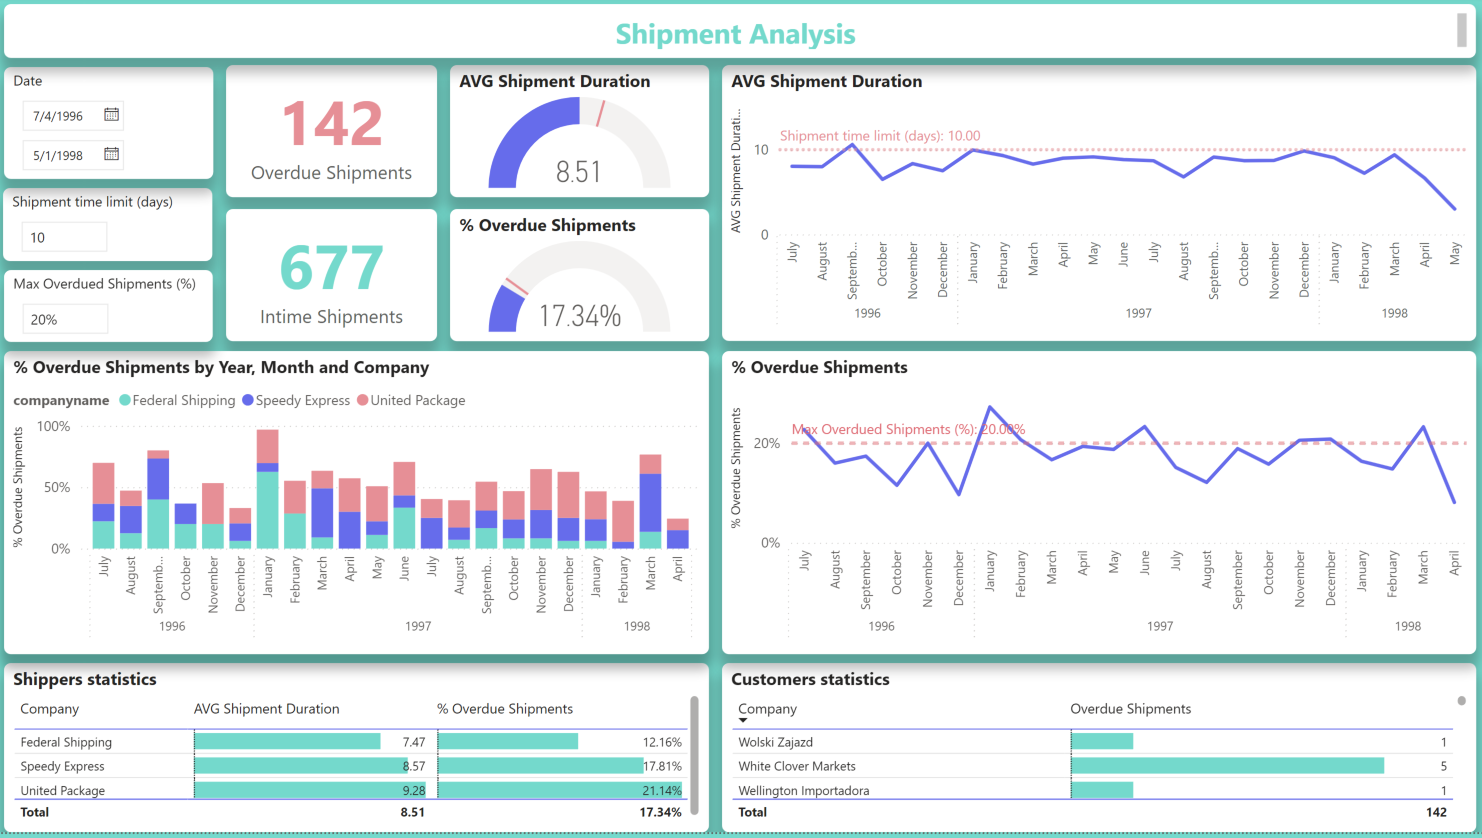

Layout of this report page (visuals, bound fields, positions):
{"tool":"powerbi","page":{"name":"Shipment","canvas":[1280,720],"ordinal":2},"visuals":[{"type":"lineChart","title":"AVG Shipment Duration","fields":{"Y":["Shipment.AVG Shipment Duration"],"Category":["Calendar.Date.Variation.Date Hierarchy.Year","Calendar.Date.Variation.Date Hierarchy.Month"]},"box":[623.6,58.7,650.4,238.1],"z":0},{"type":"card","fields":{"Values":["Shipment.Overdue Shipments"]},"box":[195.8,58.7,182,113.9],"z":1000},{"type":"gauge","fields":{"Y":["Shipment.AVG Shipment Duration"]},"box":[389,58.7,223.4,114],"z":2000},{"type":"card","fields":{"Values":["Shipment.Intime Shipments"]},"box":[195.8,182.9,182,113.9],"z":3000},{"type":"gauge","fields":{"Y":["Shipment.% Overdue Shipments"]},"box":[389,182.9,223.4,113.9],"z":4000},{"type":"slicer","title":"Shipment time limit (days)","fields":{"Values":["Shipment time limit (days).Shipment time limit (days)"]},"box":[3.5,164.8,180.3,63],"z":5000},{"type":"slicer","title":"Date","fields":{"Values":["Calendar.Date"]},"box":[4.3,60.4,180.3,96.6],"z":6000},{"type":"tableEx","title":"Shippers statistics","fields":{"Values":["shippers.companyname","Shipment.AVG Shipment Duration","Shipment.% Overdue Shipments"]},"box":[4.3,574.2,608.1,145.8],"z":7000},{"type":"tableEx","title":"Customers statistics","fields":{"Values":["customers.companyname","Shipment.Overdue Shipments"]},"box":[623.6,574.4,650.4,145.8],"z":8000},{"type":"columnChart","title":"% Overdue Shipments by Year, Month and Company","fields":{"Y":["Shipment.% Overdue Shipments"],"Category":["Calendar.Date.Variation.Date Hierarchy.Year","Calendar.Date.Variation.Date Hierarchy.Month"],"Series":["shippers.companyname"]},"box":[4.3,305.3,608.1,261.3],"z":9000},{"type":"lineChart","title":"% Overdue Shipments","fields":{"Y":["Shipment.% Overdue Shipments"],"Category":["Calendar.Date.Variation.Date Hierarchy.Year","Calendar.Date.Variation.Date Hierarchy.Month"]},"box":[623.6,305.3,650.4,261.3],"z":10000},{"type":"slicer","title":"Max Overdued Shipments (%)","fields":{"Values":["Max Overdued Shipments (%).Max Overdued Shipments (%)"]},"box":[4.3,235.5,180,62],"z":11000},{"type":"textbox","box":[4.3,6,1269.6,46.6],"z":12000}]}

Visuals, with their boxes in screenshot pixels (x1, y1, x2, y2), scaled from the page's 1280x720 canvas onto the 1482x838 screenshot:
"AVG Shipment Duration" lineChart: 722:68:1475:345
card - Shipment.Overdue Shipments: 227:68:437:201
gauge - Shipment.AVG Shipment Duration: 450:68:709:201
card - Shipment.Intime Shipments: 227:213:437:345
gauge - Shipment.% Overdue Shipments: 450:213:709:345
"Shipment time limit (days)" slicer: 4:192:213:265
"Date" slicer: 5:70:214:183
"Shippers statistics" tableEx: 5:668:709:837
"Customers statistics" tableEx: 722:669:1475:837
"% Overdue Shipments by Year, Month and Company" columnChart: 5:355:709:659
"% Overdue Shipments" lineChart: 722:355:1475:659
"Max Overdued Shipments (%)" slicer: 5:274:213:346
textbox: 5:7:1475:61
